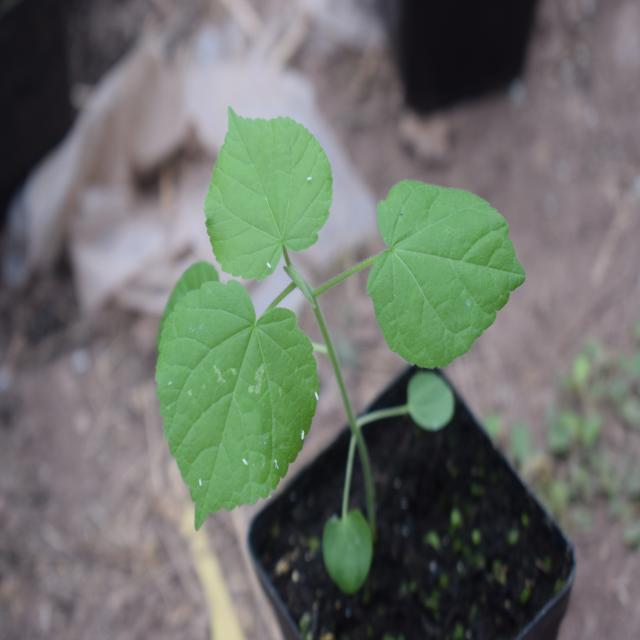abutilon theophrasti: (138, 71, 491, 553)
